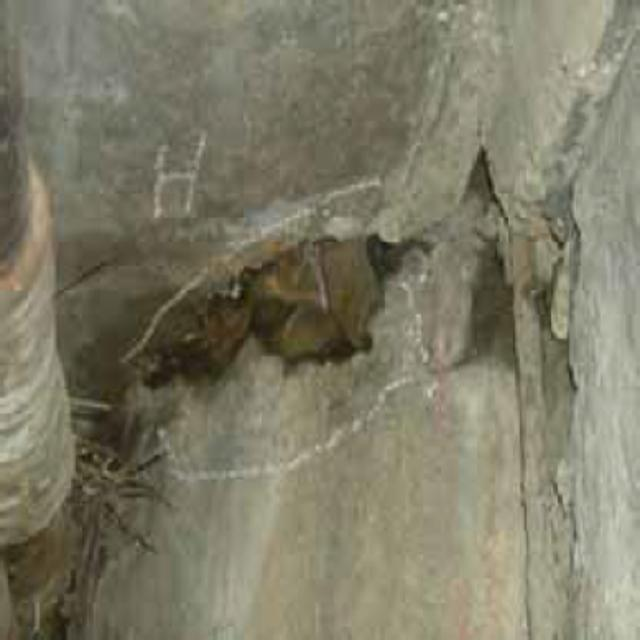spalling: (155, 148, 586, 416)
